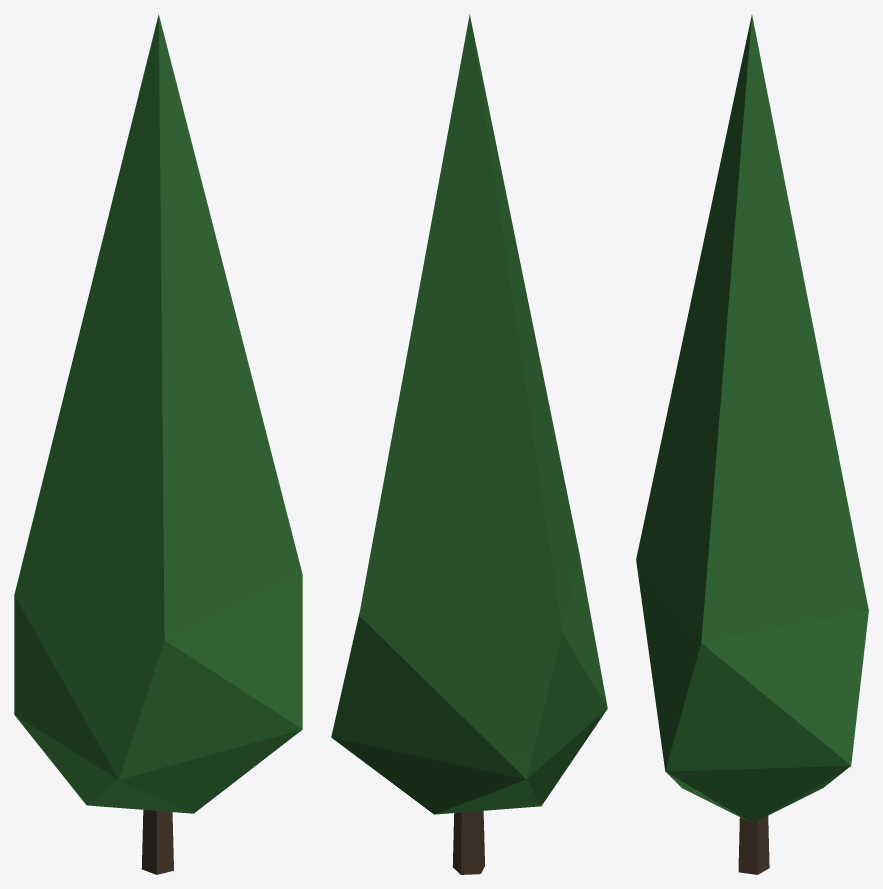
The model's file is tree2s.fbx.
3 renders of one model, left to right at view 1: azimuth 30°, elevation 25°; view 2: azimuth 150°, elevation 25°; view 3: azimuth 270°, elevation 25°, orthographic.
Parts seen in each view (by area): view 1: tree_poplar; view 2: tree_poplar; view 3: tree_poplar.
Part boxes in pixels (x1,y1,x2,y2): tree_poplar: [14, 14, 302, 874]; tree_poplar: [331, 14, 607, 874]; tree_poplar: [636, 15, 868, 874].
Bounding box in the file's own units: 221 × 762 × 188.
